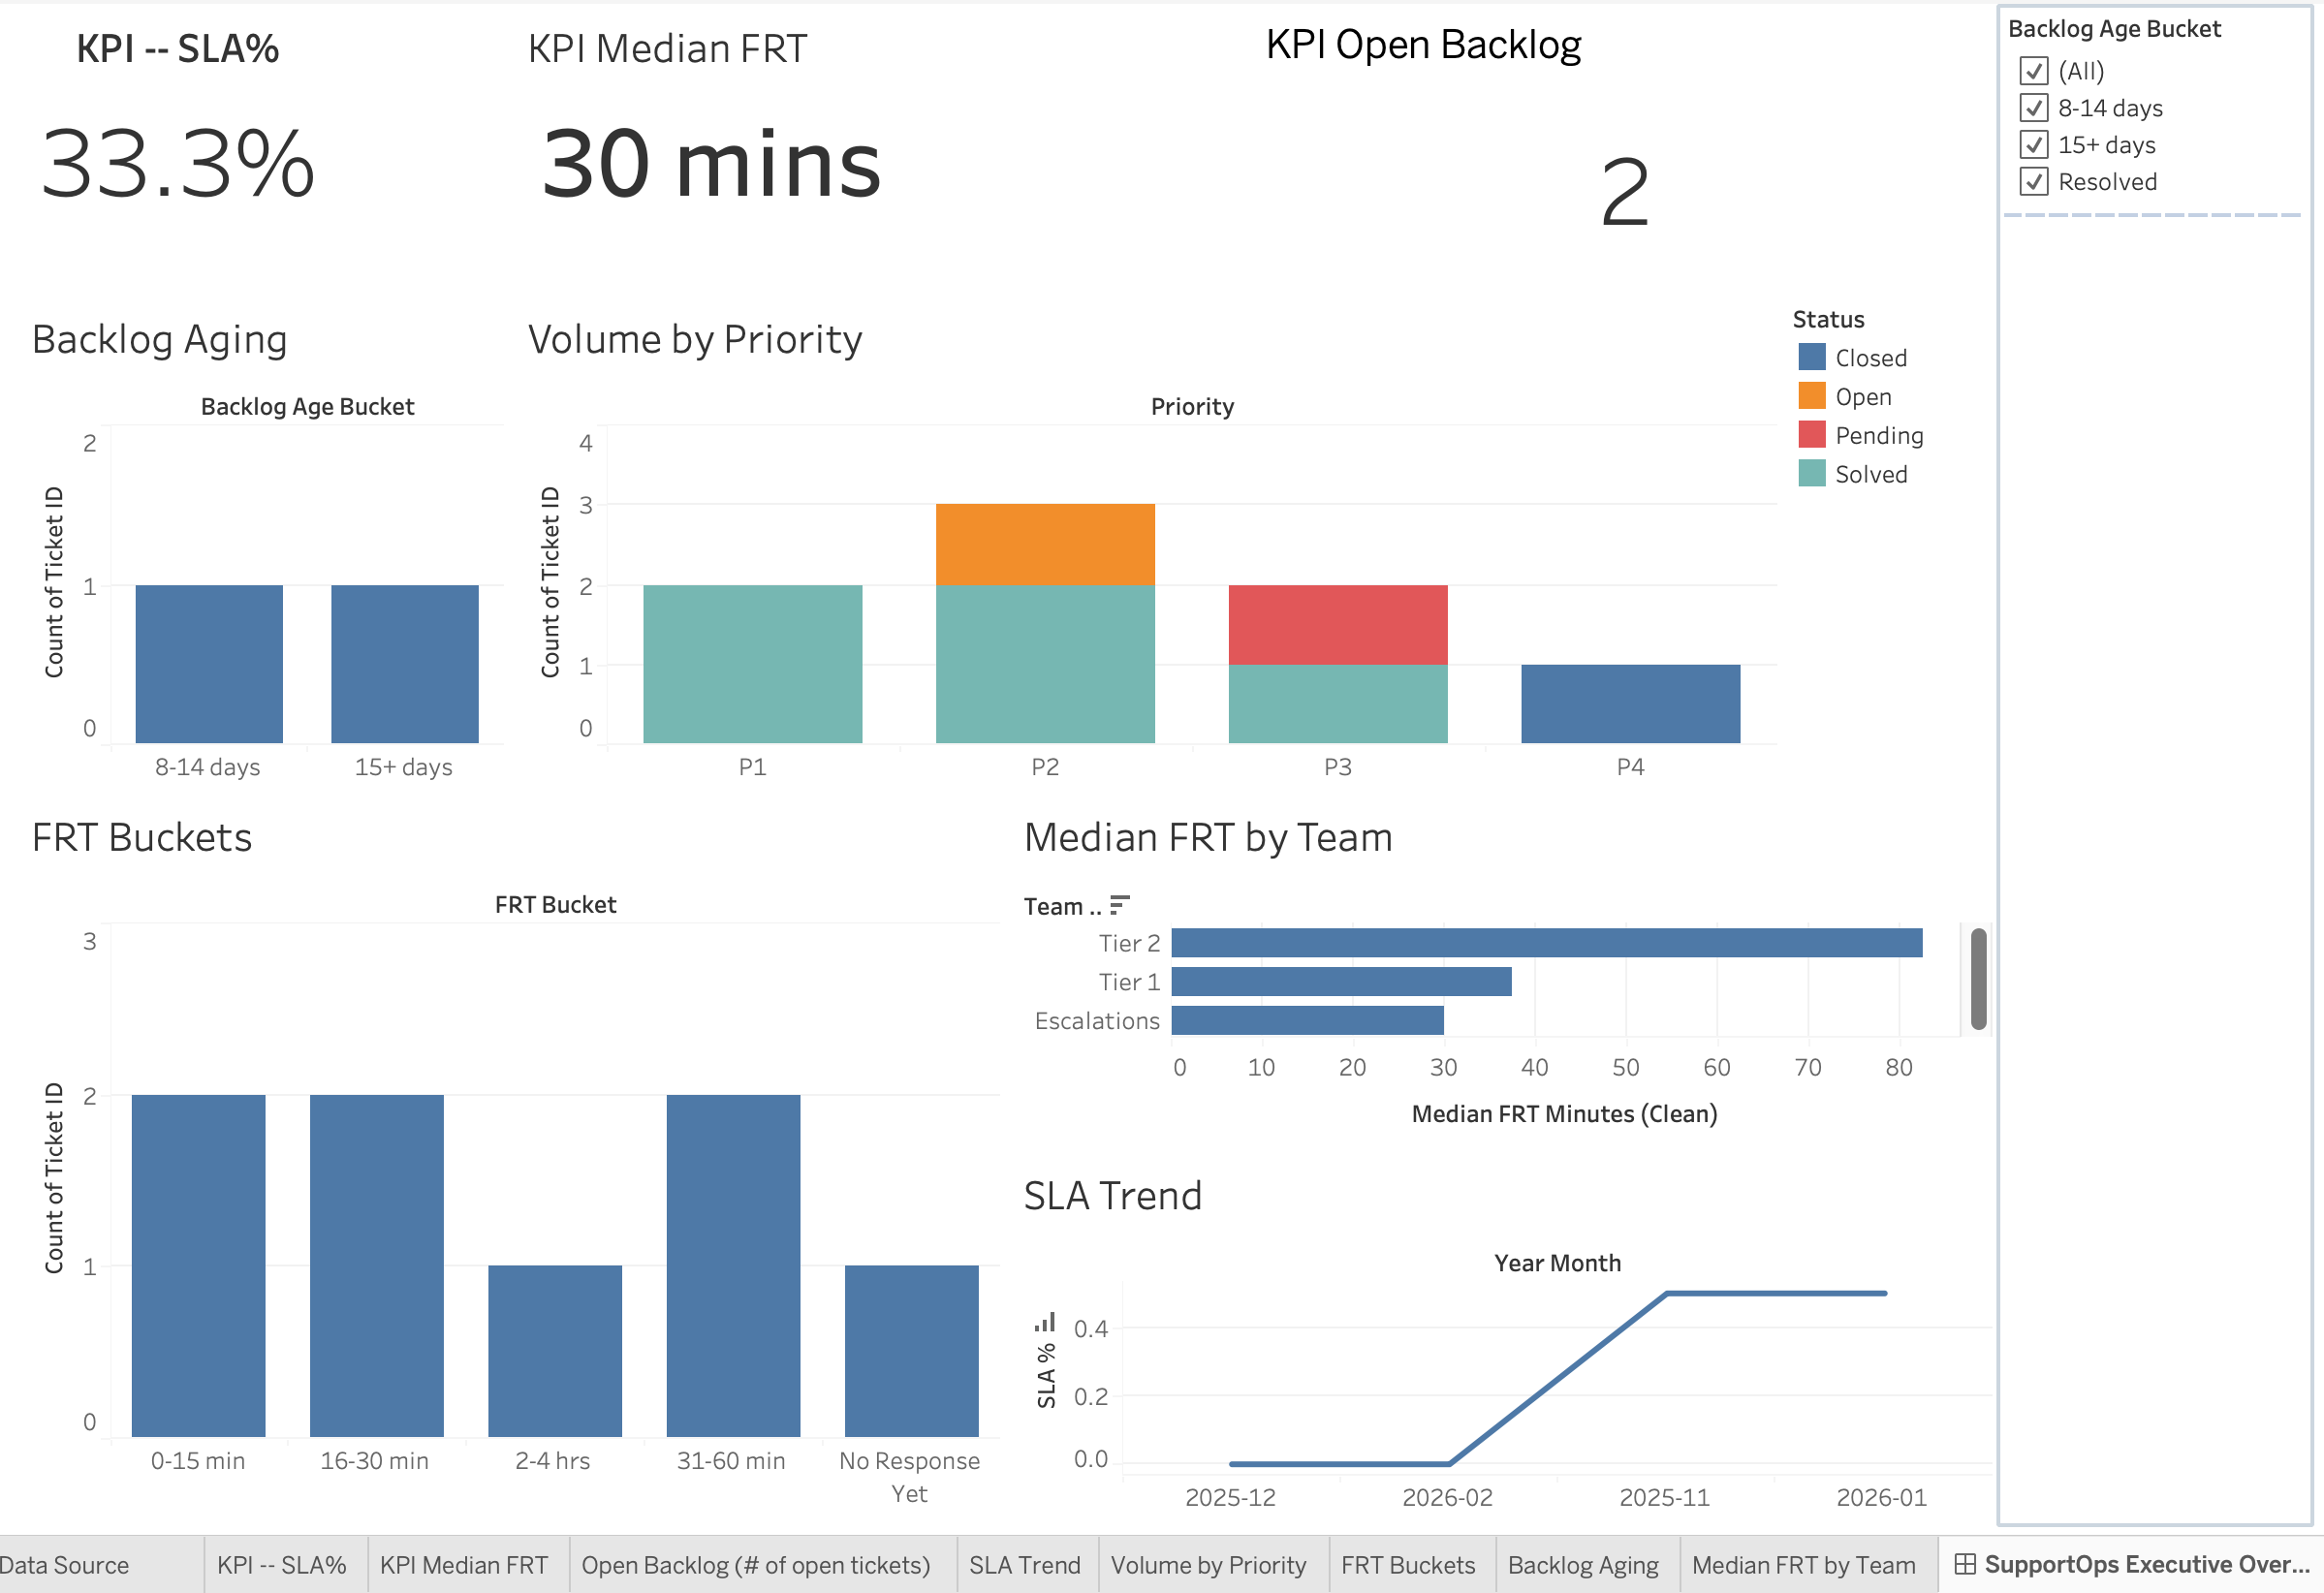

Layout of this report page (visuals, bound fields, positions):
{"tool":"tableau","page":{"name":"SupportOps Executive Overview","canvas":[1200,800],"ordinal":0},"visuals":[{"type":"worksheet","title":"KPI -- SLA%","mark":"Text","box":[8,8,256,150]},{"type":"worksheet","title":"KPI Median FRT","mark":"Text","box":[264,8,381,149.7]},{"type":"worksheet","title":"Open Backlog (# of open tickets)","mark":"Text","box":[645,8,387,149.7]},{"type":"filter","title":"Backlog Aging","param":"[federated.0e0s9uv1qmjaji124pwyt1n437up].[none:Calculation_5659434624442377:nk]","box":[1032,8,160,108]},{"type":"worksheet","title":"Volume by Priority","mark":"Bar","rows":["TicketID"],"cols":["Priority"],"box":[264,157.7,657,257.3]},{"type":"legend","title":"Volume by Priority","param":"[federated.0e0s9uv1qmjaji124pwyt1n437up].[none:Status:nk]","box":[921,157.7,111,257.3]},{"type":"worksheet","title":"Backlog Aging","mark":"Bar","rows":["TicketID"],"cols":["Calculation_5659434624442377"],"box":[8,158,256,257]},{"type":"worksheet","title":"FRT Buckets","mark":"Automatic","rows":["TicketID"],"cols":["Calculation_5659434624176134"],"box":[8,415,512,377]},{"type":"worksheet","title":"Median FRT by Team","mark":"Automatic","rows":["TeamName"],"cols":["Calculation_5659434624077829"],"box":[520,415,512,185]},{"type":"worksheet","title":"SLA Trend","mark":"Line","rows":["Calculation_5659434623864836"],"cols":["YearMonth"],"box":[520,600,512,192]}]}

Visuals, with their boxes on the page's 1200x800 design canvas (x1, y1, x2, y2). These are canvas units, not pixel positions in the 2324x1593 screenshot, which may show the page scaled, cropped or inside an application window:
"KPI -- SLA%" worksheet (Text marks): [x1=8, y1=8, x2=264, y2=158]
"KPI Median FRT" worksheet (Text marks): [x1=264, y1=8, x2=645, y2=158]
"Open Backlog (# of open tickets)" worksheet (Text marks): [x1=645, y1=8, x2=1032, y2=158]
"Backlog Aging" filter: [x1=1032, y1=8, x2=1192, y2=116]
"Volume by Priority" worksheet (Bar marks): [x1=264, y1=158, x2=921, y2=415]
"Volume by Priority" legend: [x1=921, y1=158, x2=1032, y2=415]
"Backlog Aging" worksheet (Bar marks): [x1=8, y1=158, x2=264, y2=415]
"FRT Buckets" worksheet: [x1=8, y1=415, x2=520, y2=792]
"Median FRT by Team" worksheet: [x1=520, y1=415, x2=1032, y2=600]
"SLA Trend" worksheet (Line marks): [x1=520, y1=600, x2=1032, y2=792]
